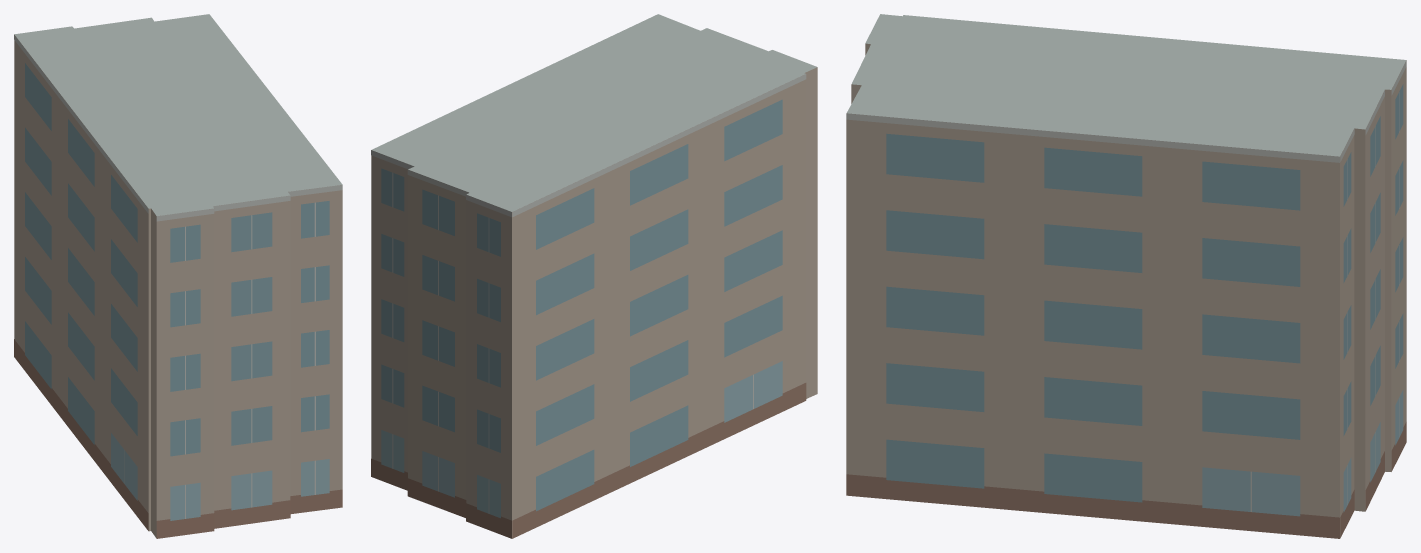
Rendered from survey-upis-32506449.glb.
3 views of the same model, side by side, from view 1: azimuth 30°, elevation 25°; view 2: azimuth 150°, elevation 25°; view 3: azimuth 270°, elevation 25° (orthographic). The views are drawn at different scales.
Parts seen in each view (by area): view 1: survey-upis-32506449.tmp; view 2: survey-upis-32506449.tmp; view 3: survey-upis-32506449.tmp.
Boxes of the visible parts, x1=… form: survey-upis-32506449.tmp: x1=14, y1=14, x2=342, y2=538; survey-upis-32506449.tmp: x1=371, y1=14, x2=817, y2=538; survey-upis-32506449.tmp: x1=846, y1=14, x2=1406, y2=538.
Bounding box in the file's own units: 11.85 × 14.8 × 19.66.
